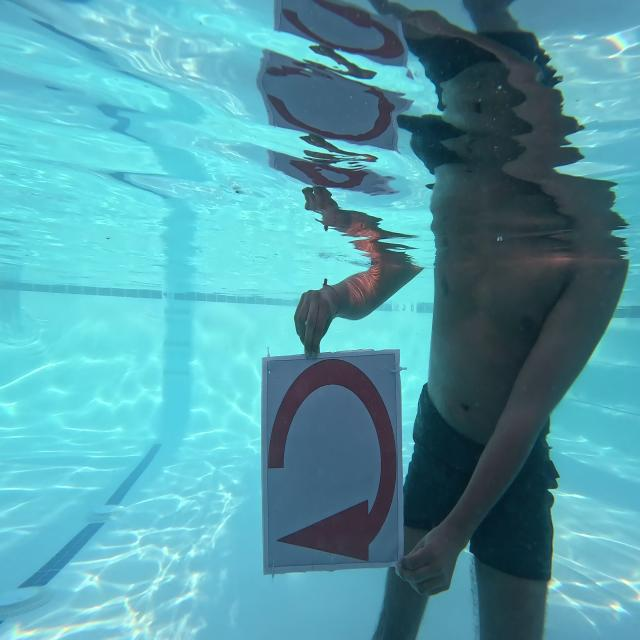red_side: (263, 358, 403, 575)
